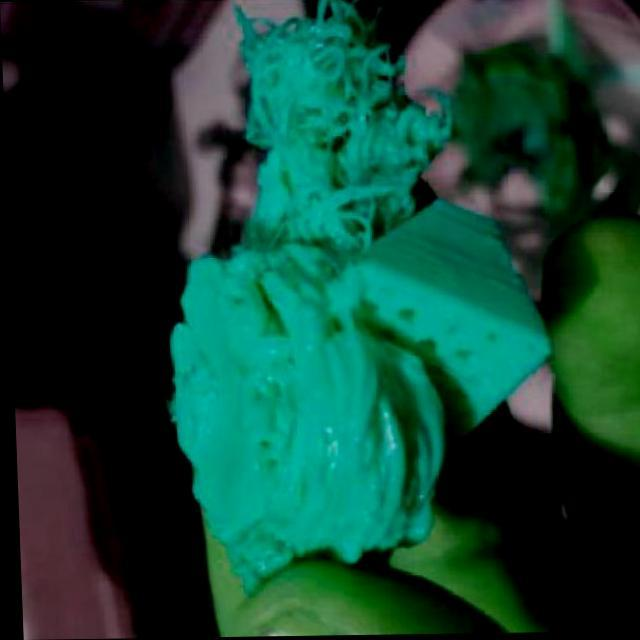spaghetti: (229, 0, 456, 251)
